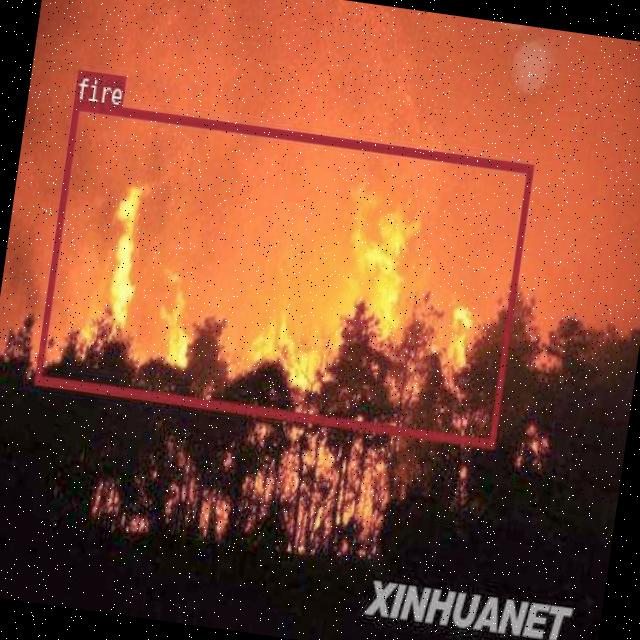fire: (34, 99, 532, 448)
